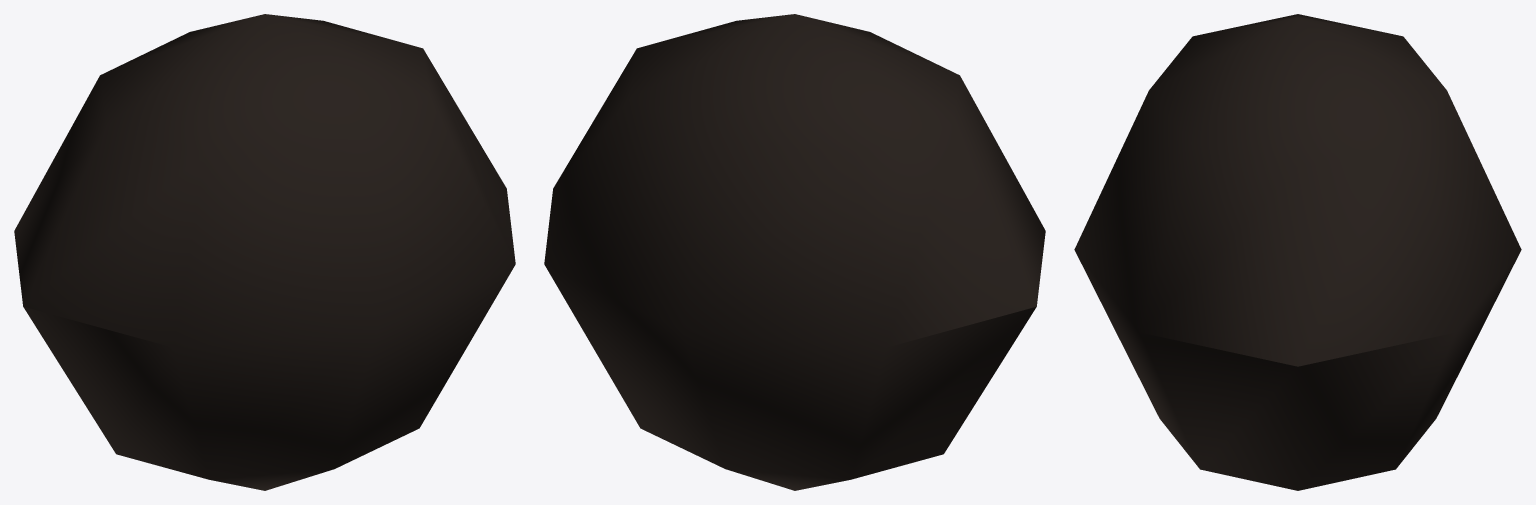
The model's file is SM_Villager_Hair_Konde.fbx.
The picture shows the model from 3 angles, left to right: view 1: azimuth 30°, elevation 25°; view 2: azimuth 150°, elevation 25°; view 3: azimuth 270°, elevation 25°; orthographic projection.
Visible parts, largest first — view 1: SM_Villager_Hair_Konde; view 2: SM_Villager_Hair_Konde; view 3: SM_Villager_Hair_Konde.
Boxes of the visible parts, x1,y1,x2,y2 form: SM_Villager_Hair_Konde: (14,14,515,490); SM_Villager_Hair_Konde: (544,14,1045,490); SM_Villager_Hair_Konde: (1074,14,1521,490).
Size of the model in its own units: 0.104 by 0.098 by 0.084.
Materials: 1 (1 with a texture image).
